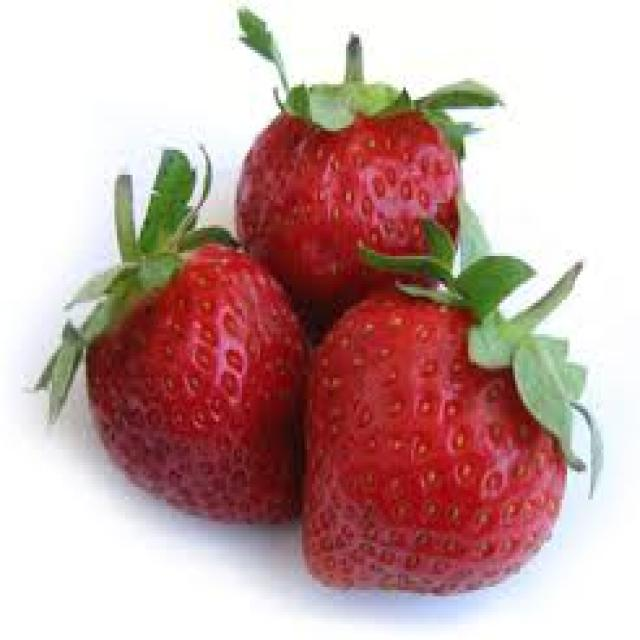srawberry: (42, 0, 638, 615)
